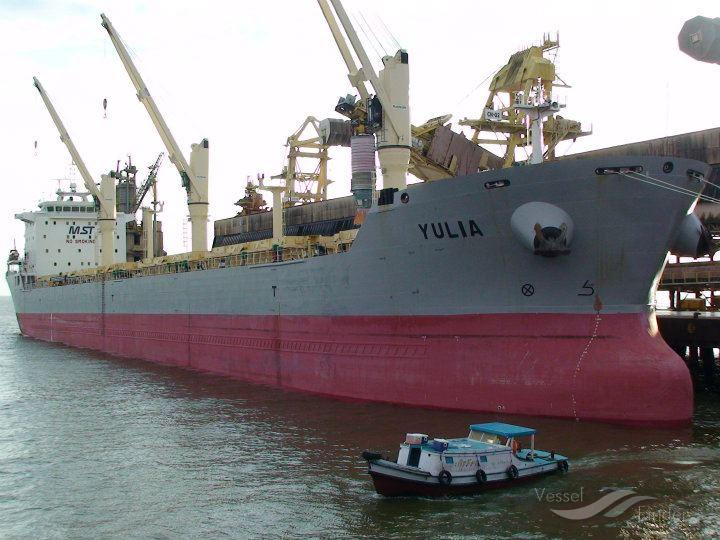OCR: (415, 214, 485, 247)
